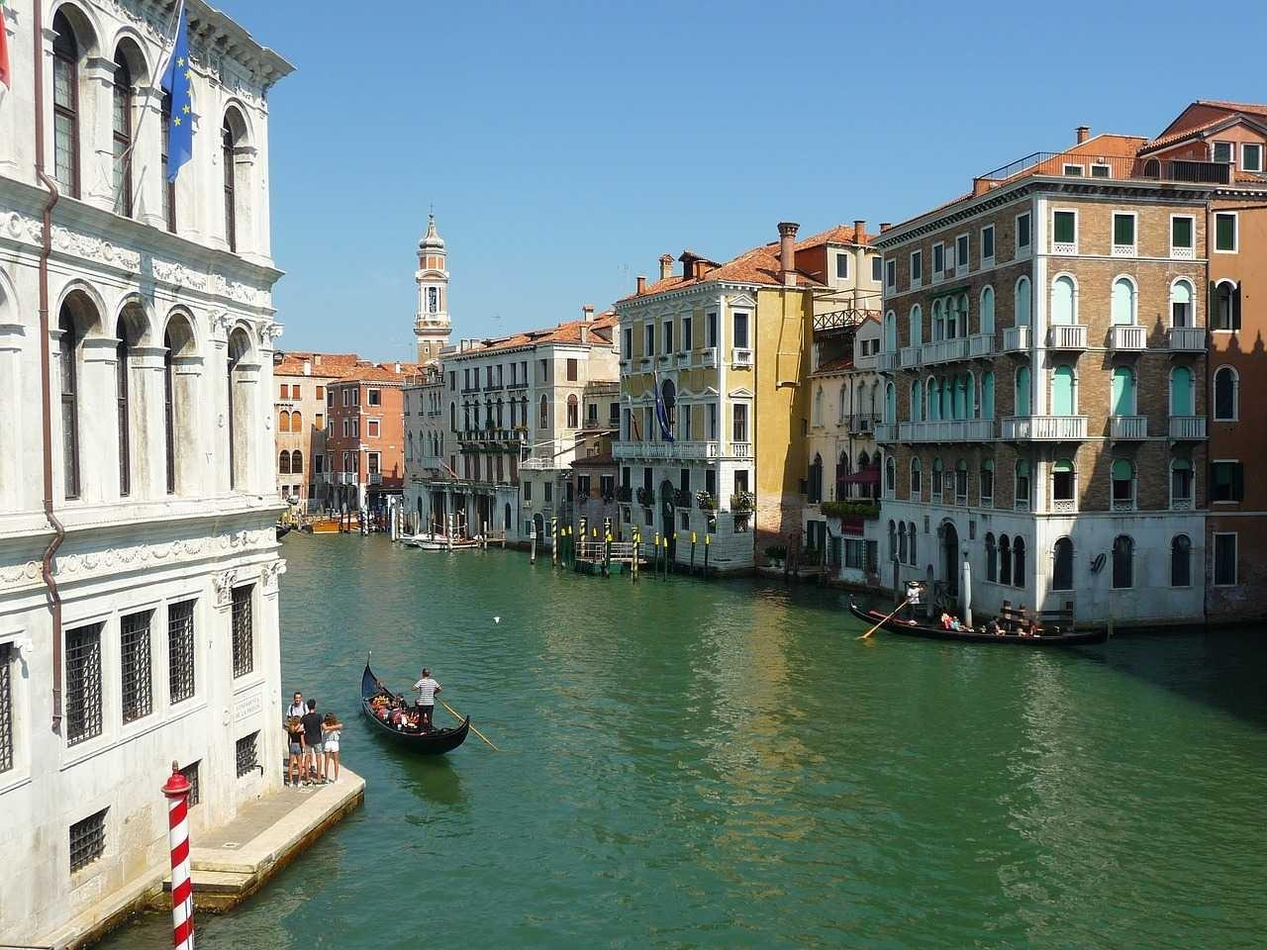kayak: (849, 594, 1110, 652), (359, 658, 473, 757), (406, 531, 486, 551)
